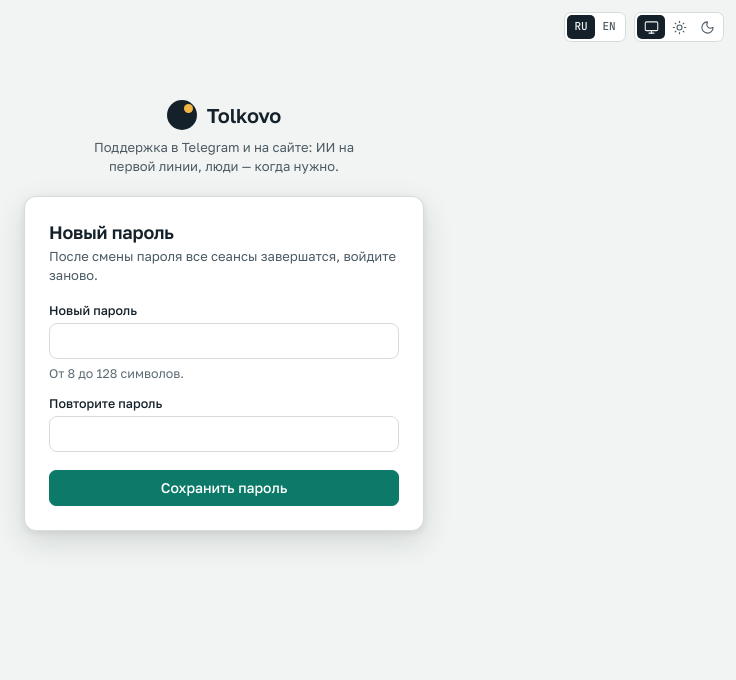
reset password › offers a new link when this one is used up
Type "brand new pass" into the password field labelled "Новый пароль" at (224, 342), box [49,324,399,360]
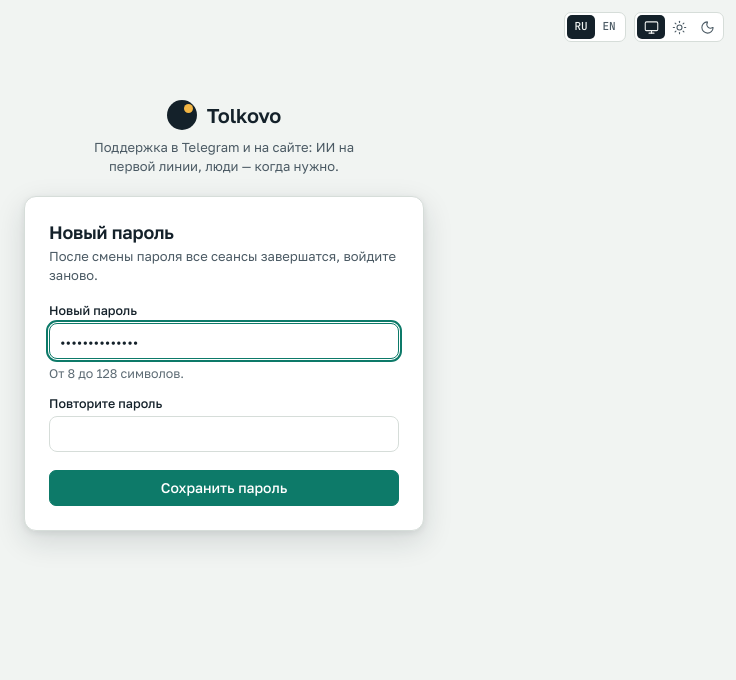
Type "brand new pass" into the password field labelled "Повторите пароль" at (224, 434), box [49,416,399,452]
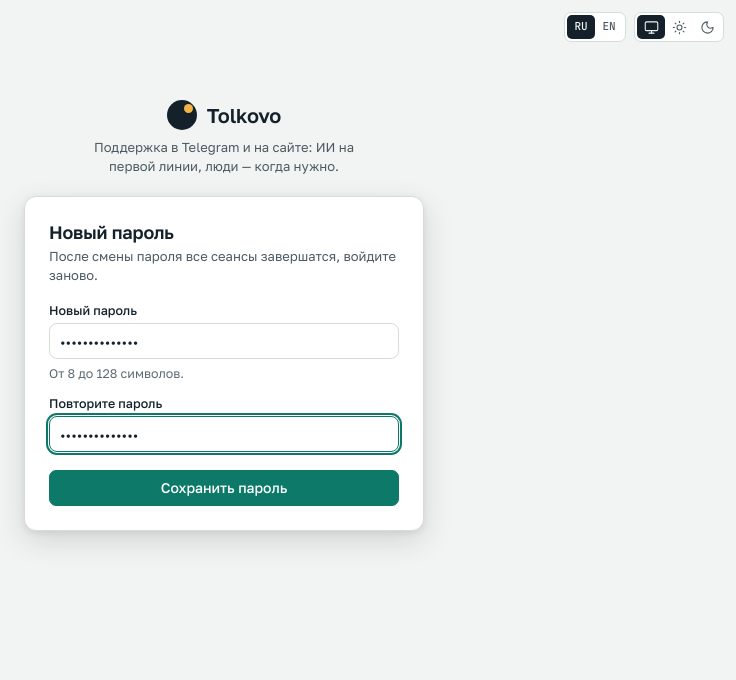
Click the button "Сохранить пароль" at (224, 488), box [49,470,399,506]
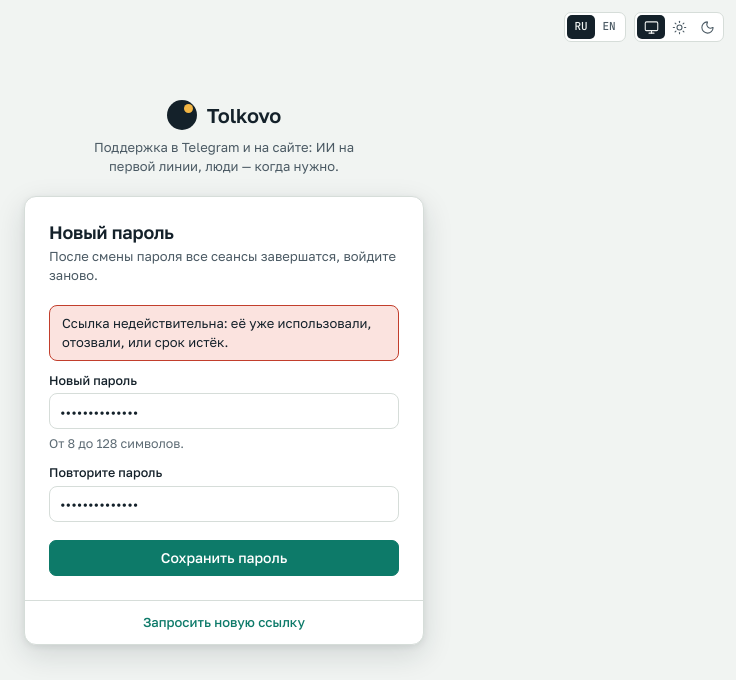
Expected: the message shows "Ссылка недействительна", [62,315,371,350]
